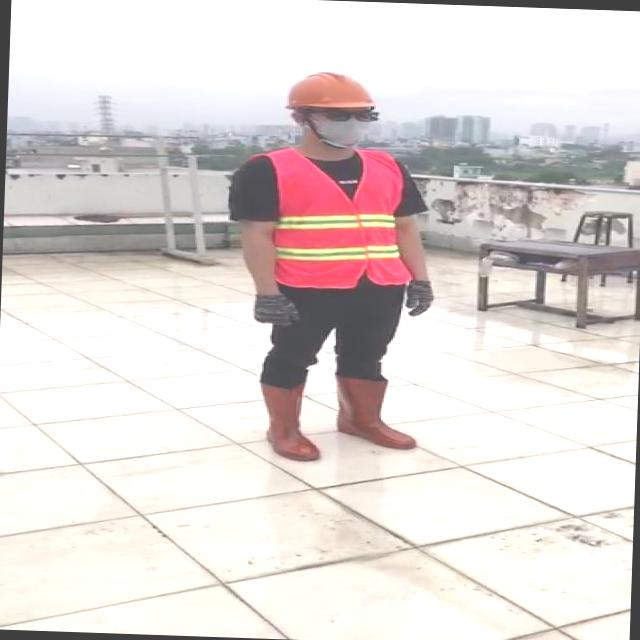boots: (244, 377, 325, 464), (340, 372, 418, 448)
gloves: (248, 292, 303, 330), (402, 278, 438, 320)
helmet: (280, 66, 379, 112)
vest: (248, 148, 415, 290)
